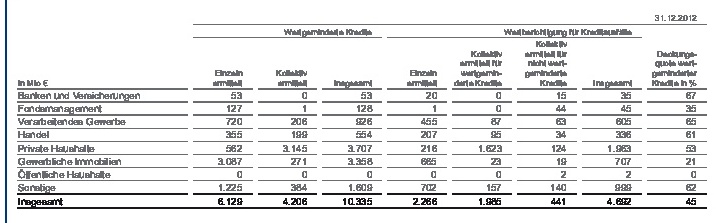table: (0, 0, 724, 223)
